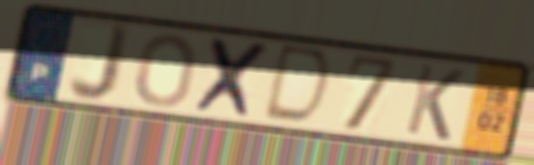7: (345, 51, 401, 136)
D: (258, 41, 336, 129)
J: (65, 20, 136, 106)
K: (401, 61, 468, 144)
O: (132, 31, 200, 110)
X: (190, 34, 277, 123)
